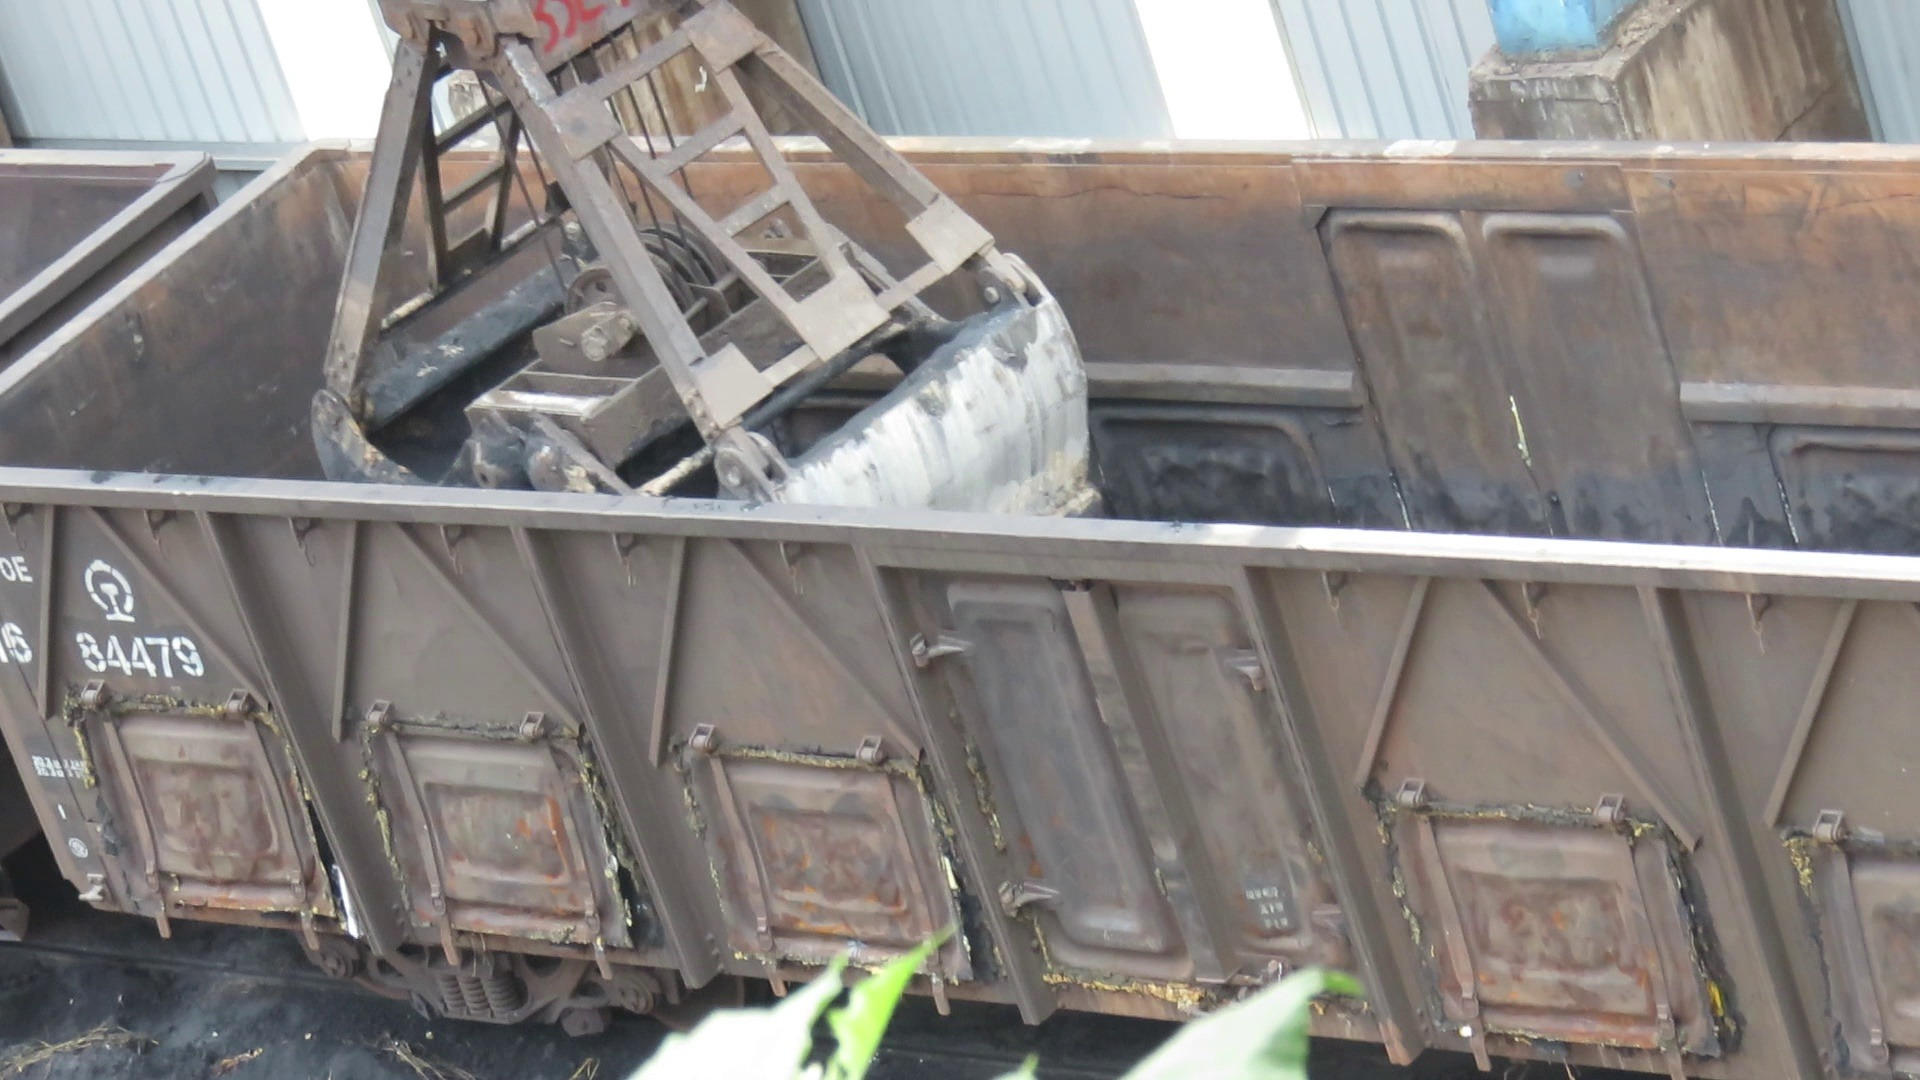grab: (305, 1, 1109, 526)
